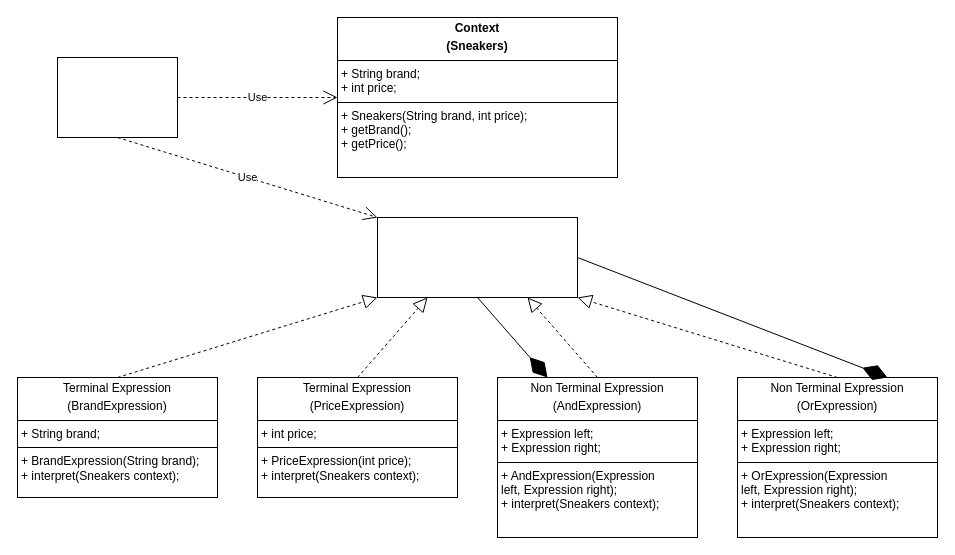
Some shapes in this 955 by 555 pixel diagram are drawn without their labels. Each missing label, with the centre of its shape:
<<Interface>> Expression + interpret(Sneakers context);: point 477,257
Client: point 117,97
